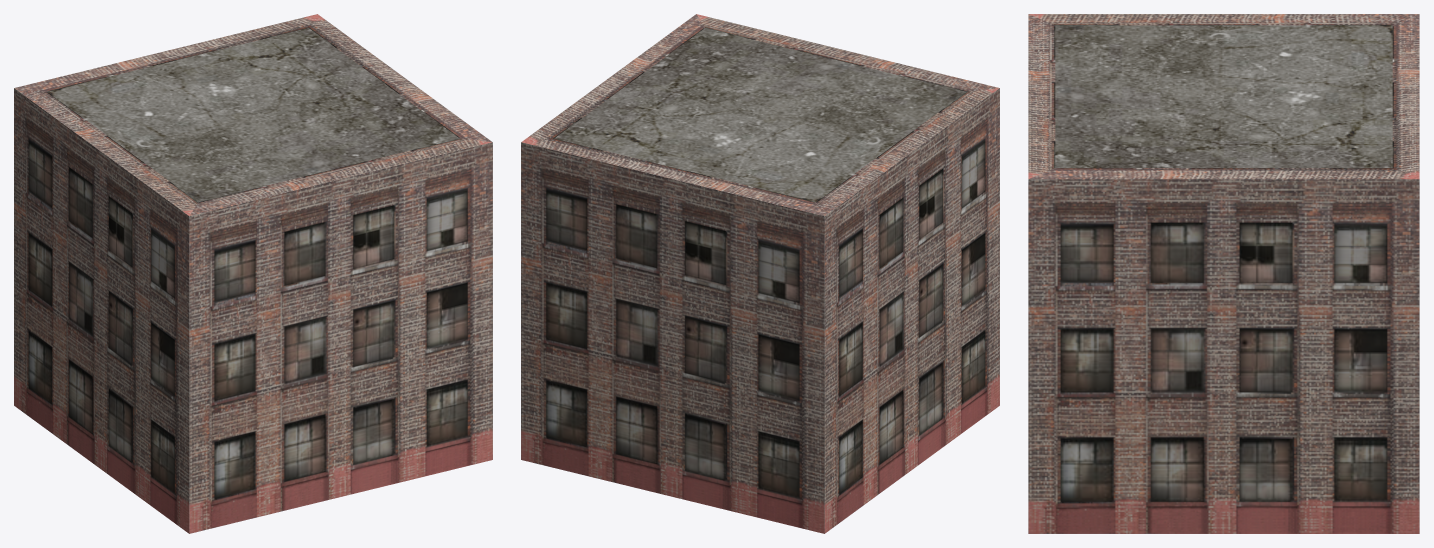
Rendered from Building_B.glb.
3 views of the same model, side by side, from view 1: azimuth 30°, elevation 25°; view 2: azimuth 150°, elevation 25°; view 3: azimuth 270°, elevation 25° (orthographic). The views are drawn at different scales.
Parts seen in each view (by area): view 1: Building_B; view 2: Building_B; view 3: Building_B.
Part boxes in pixels (x1,y1,x2,y2): Building_B: (14, 14, 492, 533); Building_B: (521, 14, 999, 533); Building_B: (1028, 14, 1419, 533).
Size of the model in its own units: 15 by 15 by 15.
Materials: 1 (1 with a texture image).
